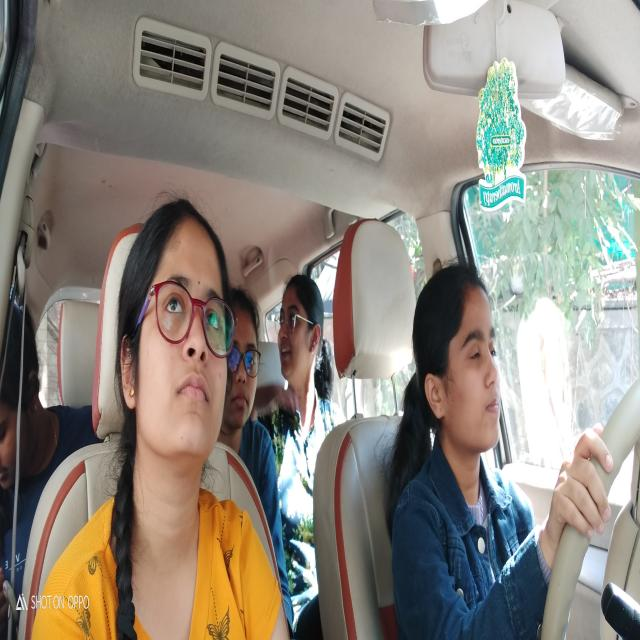drowsy: (416, 249, 518, 485)
person: (116, 190, 232, 489), (0, 304, 55, 493), (271, 268, 334, 432), (220, 271, 264, 444)
